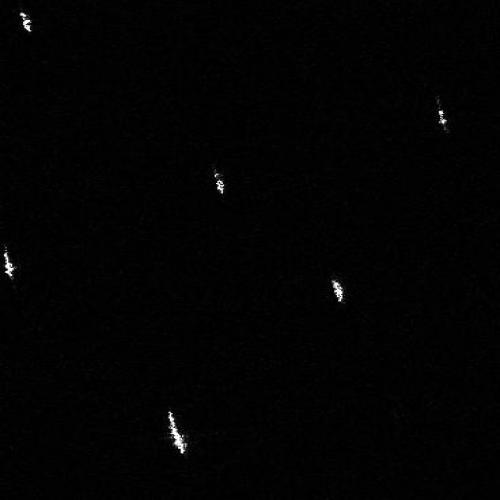ship: (166, 410, 190, 455), (211, 171, 227, 198), (2, 251, 16, 280), (330, 278, 345, 304), (18, 11, 34, 33), (435, 106, 449, 128)
